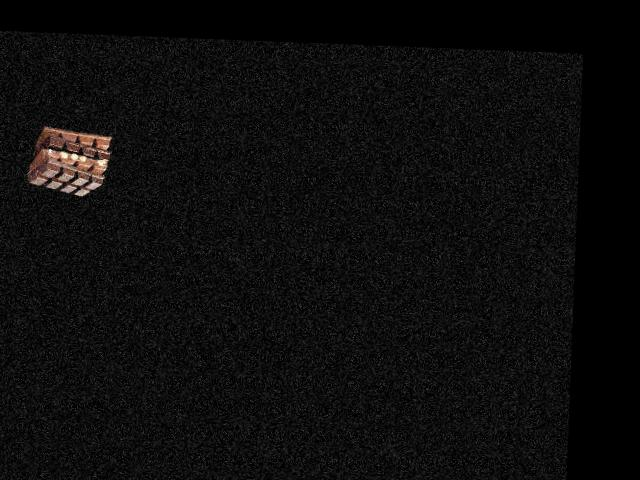chocolate: (31, 123, 111, 197)
